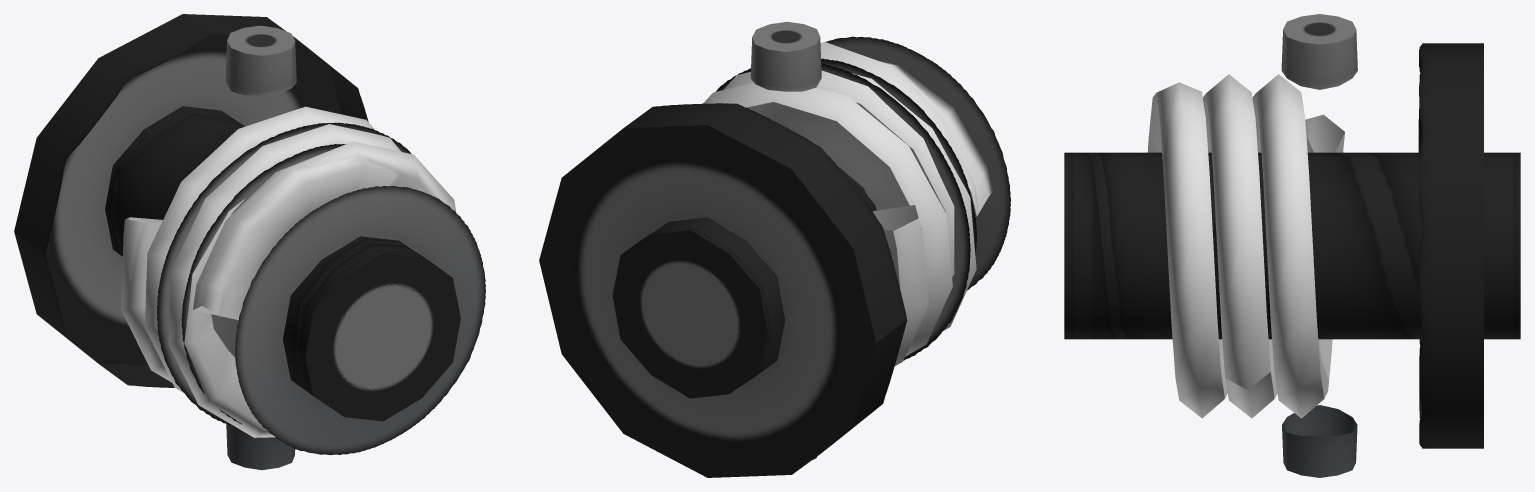
File: obj_interactive_suspensionoffroad_03_on.fbx
3 renders of one model, left to right at view 1: azimuth 30°, elevation 25°; view 2: azimuth 150°, elevation 25°; view 3: azimuth 270°, elevation 25°, orthographic. The views are drawn at different scales.
Parts seen in each view (by area): view 1: obj_interactive_suspensionoffroad_03_on; view 2: obj_interactive_suspensionoffroad_03_on; view 3: obj_interactive_suspensionoffroad_03_on.
Boxes of the visible parts, x1,y1,x2,y2 form: obj_interactive_suspensionoffroad_03_on: (14, 14, 485, 470); obj_interactive_suspensionoffroad_03_on: (539, 21, 1010, 477); obj_interactive_suspensionoffroad_03_on: (1064, 14, 1520, 477).
Bounding box in the file's own units: 1.09 × 1.29 × 1.23.
